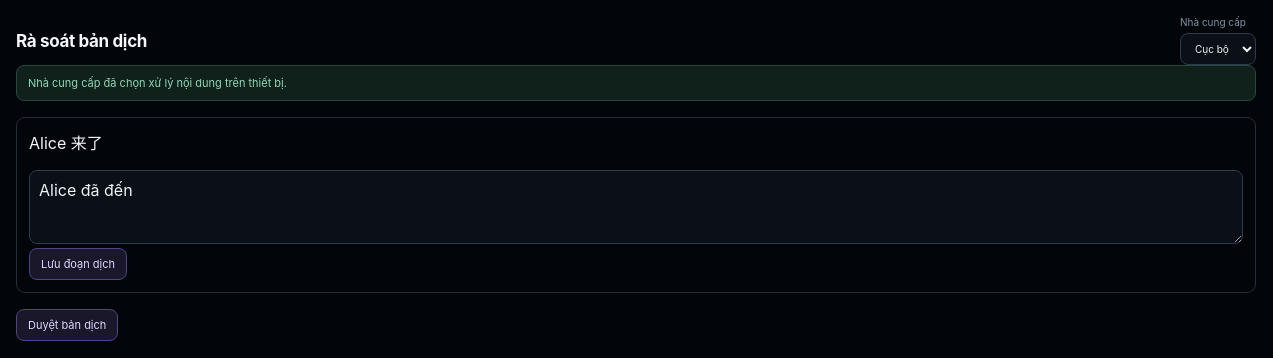
it: TranslationReview › blocks a translation that changes a locked proper name
Replace the text in the text box named "Bản dịch segment-1" with "Cô ấy đã đến" at (636, 207), box [29,170,1243,244]
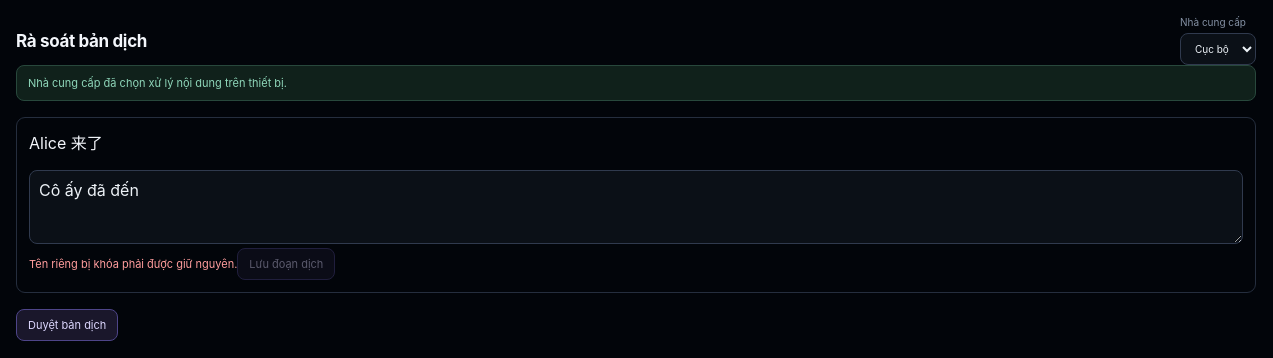
Expected: the text "Tên riêng bị khóa phải được giữ nguyên." is shown, [29,257,237,271]
Expected: the button "Lưu đoạn dịch" is disabled, [237,248,335,280]
